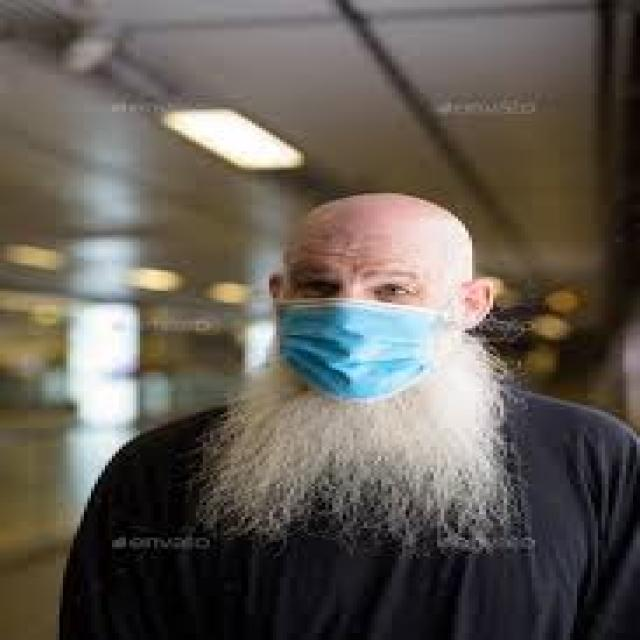with_mask: (226, 192, 511, 444)
